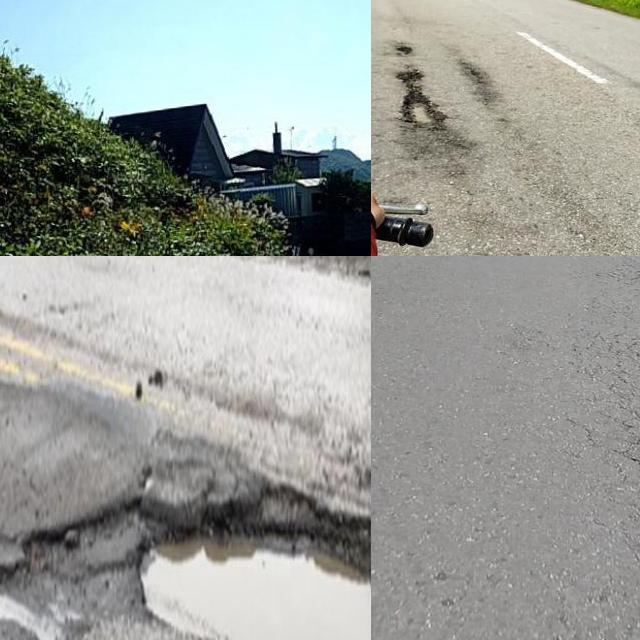Lubang: (139, 488, 371, 640), (396, 68, 441, 127)
